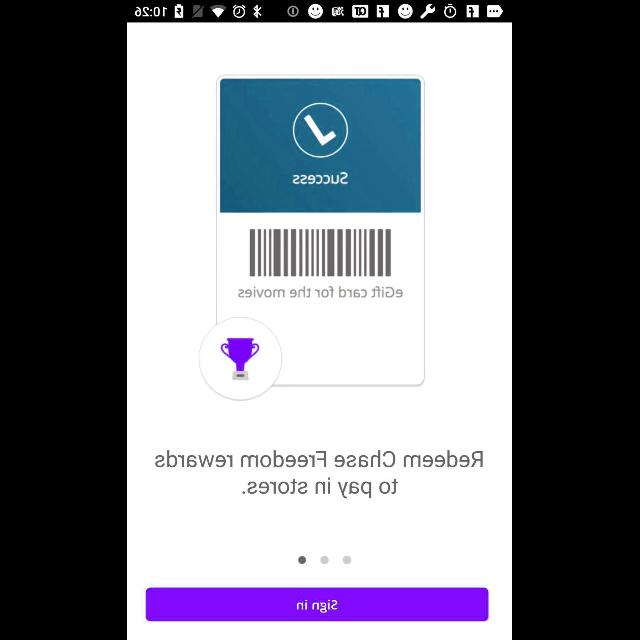image: (200, 74, 426, 402)
pageindicator: (298, 556, 352, 564)
text: (156, 449, 484, 499)
textbutton: (147, 588, 490, 622)
uppertaskbar: (128, 1, 512, 23)
